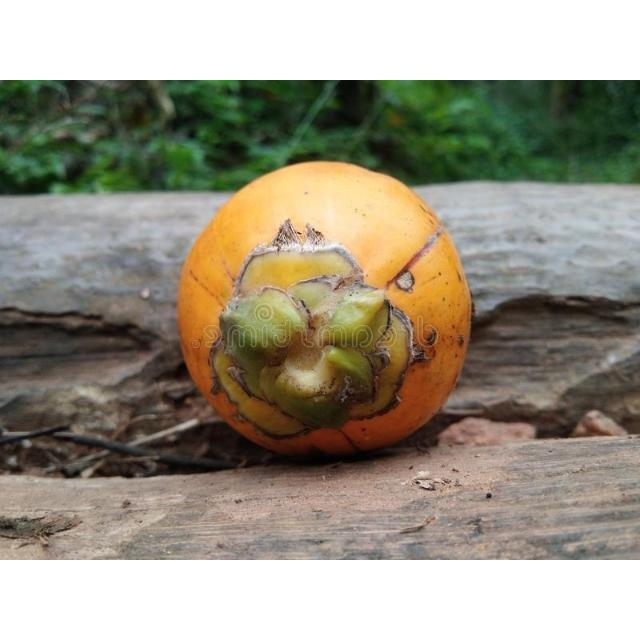good: (176, 162, 470, 462)
